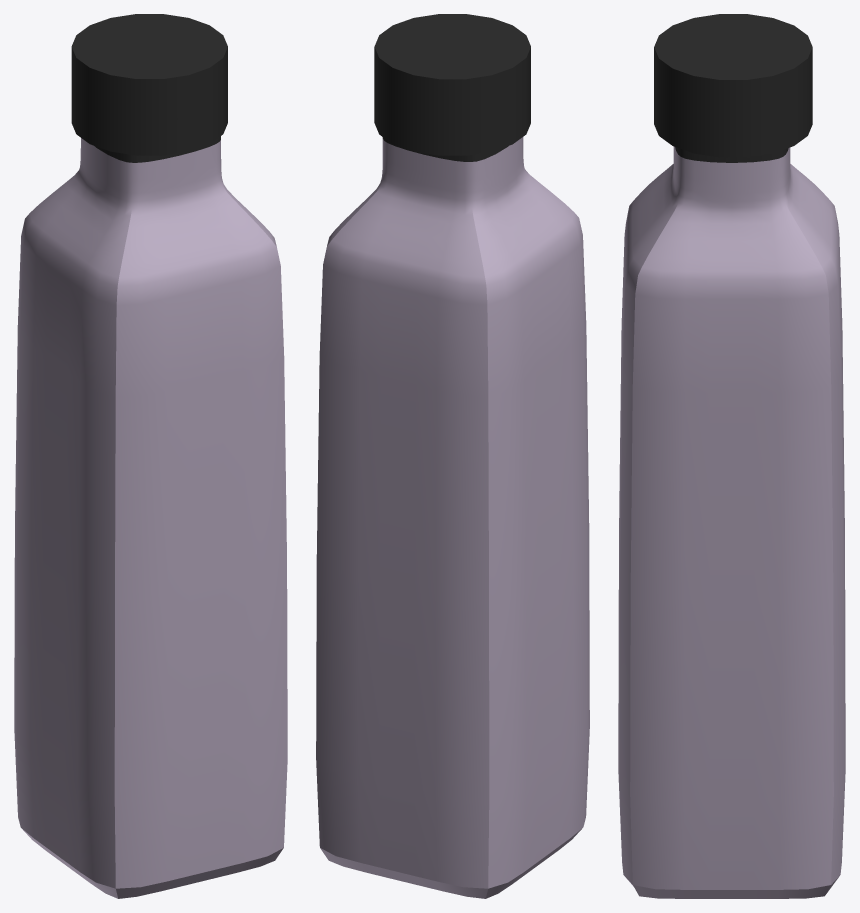
The model's file is SM_Bottle01.fbx.
3 renders of one model, left to right at view 1: azimuth 30°, elevation 25°; view 2: azimuth 150°, elevation 25°; view 3: azimuth 270°, elevation 25°, orthographic.
Parts seen in each view (by area): view 1: Cube.012, Cylinder.003; view 2: Cube.012, Cylinder.003; view 3: Cube.012, Cylinder.003.
Part boxes in pixels (bbox=[...]): Cube.012: bbox=[14, 136, 287, 898]; Cylinder.003: bbox=[71, 14, 227, 155]; Cube.012: bbox=[316, 137, 589, 898]; Cylinder.003: bbox=[374, 14, 530, 155]; Cube.012: bbox=[618, 146, 845, 898]; Cylinder.003: bbox=[654, 14, 812, 157].
Size of the model in its own units: 100 by 394 by 100.
